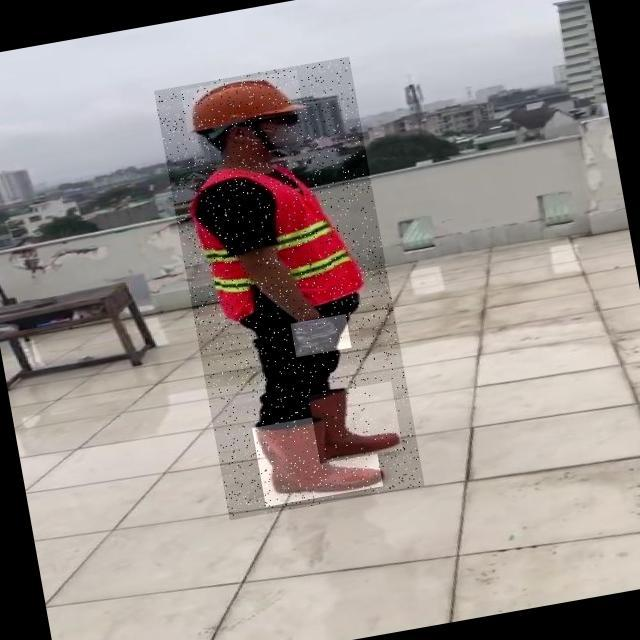Gloves: (290, 314, 351, 357)
Helmet: (180, 70, 304, 133)
Human: (154, 56, 425, 520)
Safety Boot: (252, 407, 383, 506), (308, 381, 403, 464)
Safety Vest: (183, 149, 365, 324)
